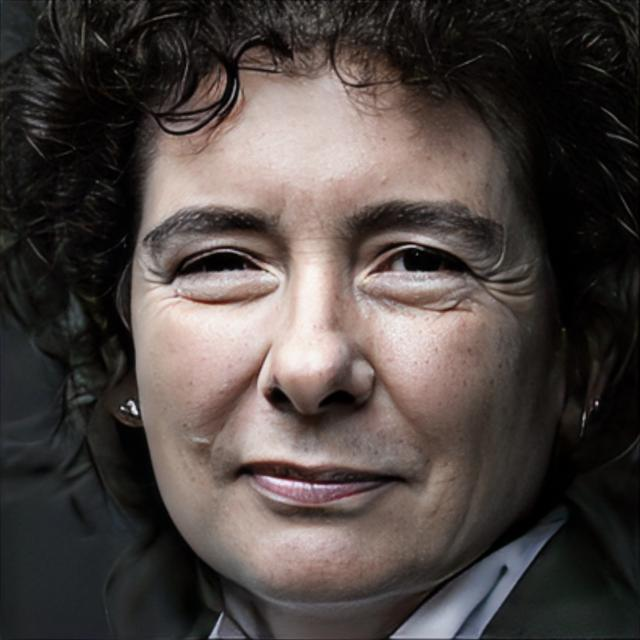content: (128, 53, 548, 606)
